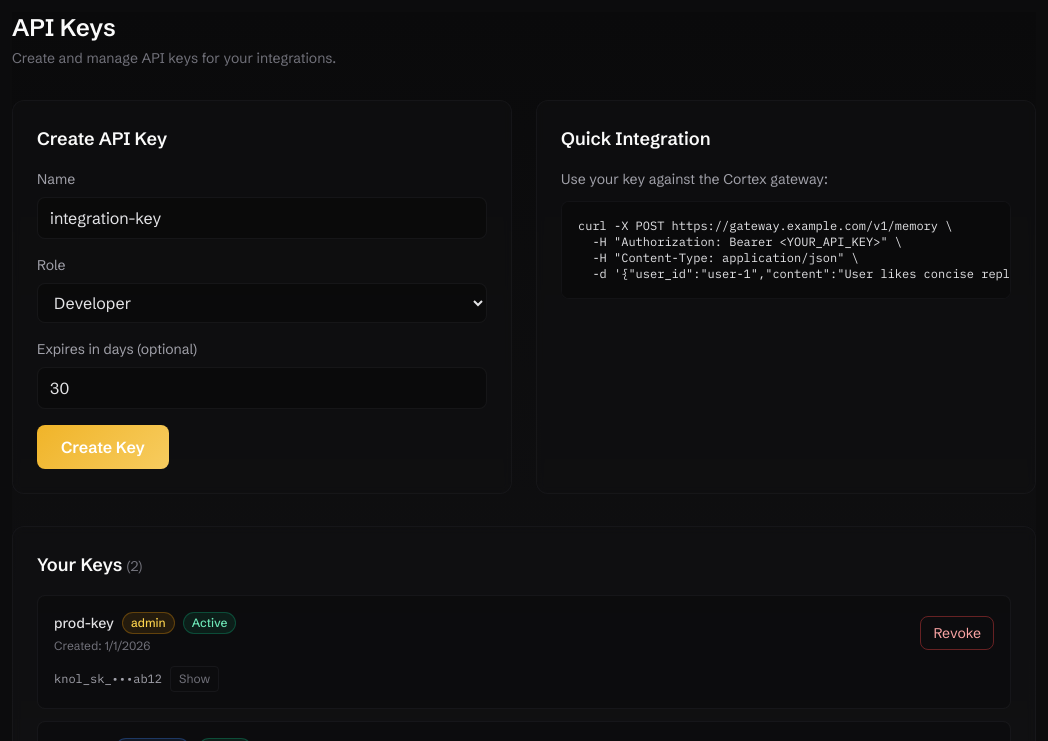
Test: ApiKeysPage › Reveal button shows full key
Expected: the button "Create Key" is shown, [37, 425, 169, 469]
Submit the text "Create Key", box [37, 169, 487, 469]
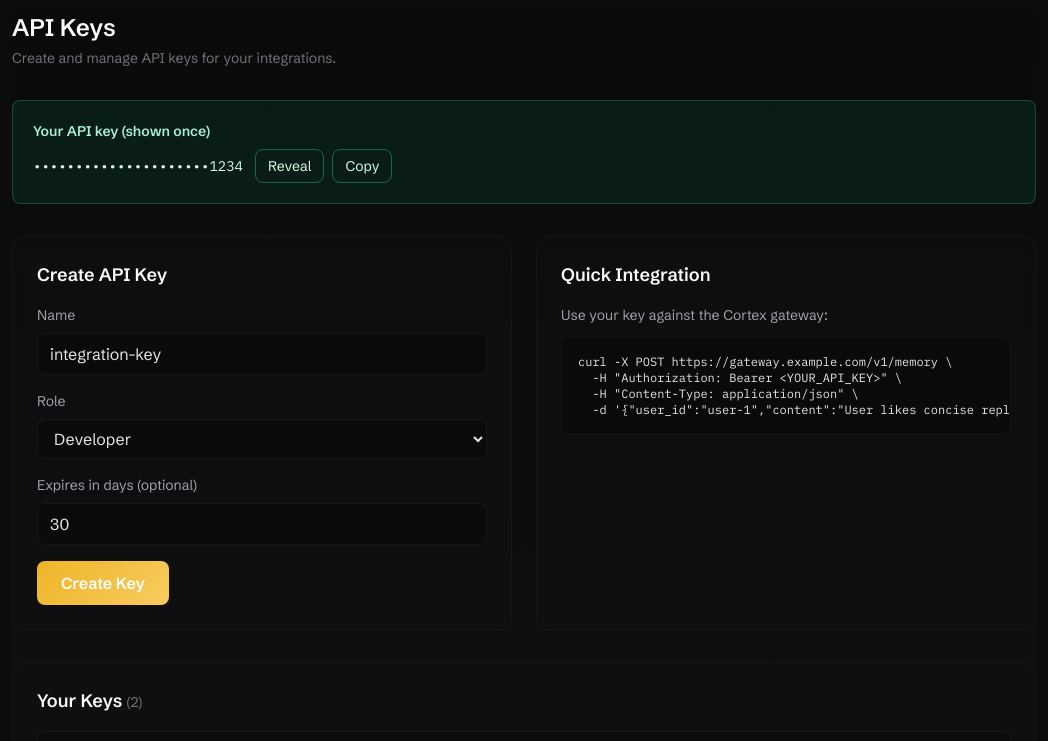
Expected: the button "Reveal" is shown
Click the button "Reveal". click: point(290, 166)
box: [255, 149, 324, 183]
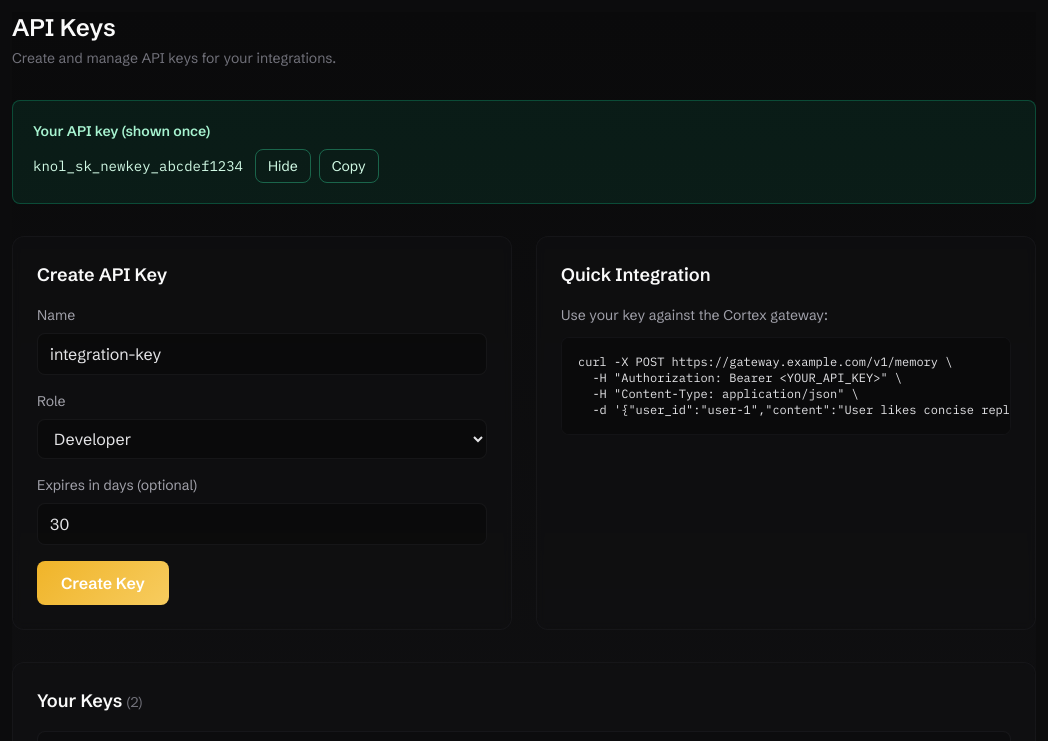
Expected: the text "knol_sk_newkey_abcdef1234" is shown, [33, 156, 243, 176]
Expected: the button "Hide" is shown, [255, 149, 311, 183]
